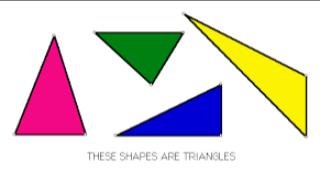Triangle: (183, 12, 306, 135), (13, 34, 86, 135), (115, 83, 222, 136), (94, 31, 184, 84)
